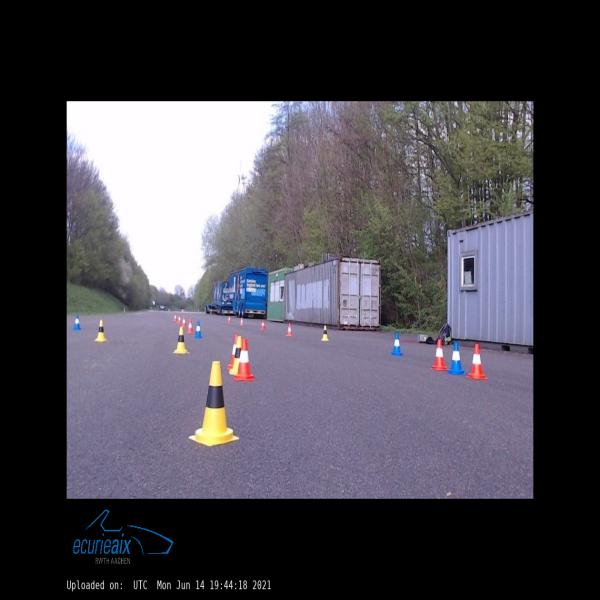blue_cone: (448, 341, 466, 375), (392, 332, 404, 356), (194, 321, 202, 338), (73, 314, 81, 329)
orange_cone: (233, 338, 255, 381), (466, 344, 488, 380), (430, 339, 448, 370), (227, 334, 238, 369), (186, 319, 194, 333), (286, 323, 293, 336), (260, 320, 266, 330), (182, 317, 186, 326), (239, 318, 244, 325), (178, 315, 182, 323), (228, 316, 232, 322), (174, 314, 177, 321)
yellow_cone: (189, 360, 240, 446), (230, 336, 242, 375), (173, 327, 189, 353), (95, 320, 107, 341), (321, 326, 329, 340)
